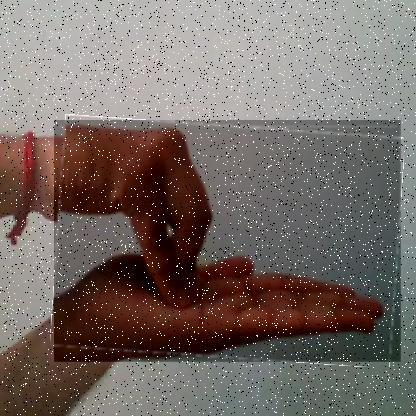Z: (54, 120, 402, 363)
